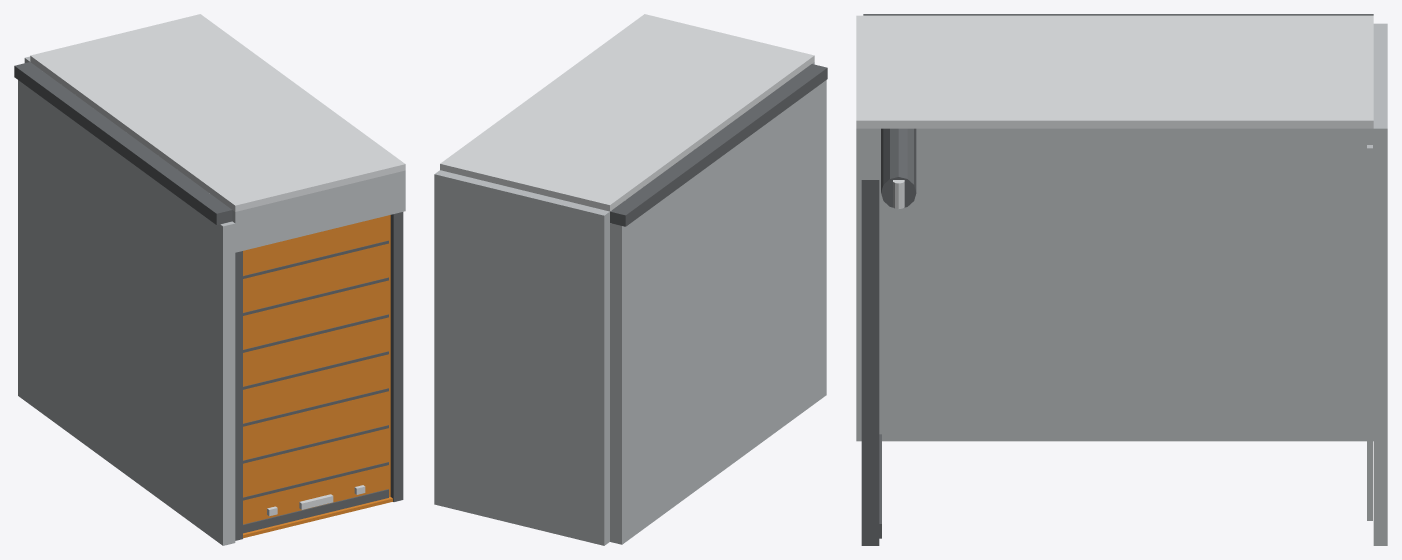
The model's file is self-storage-facility-and-loading-bay-self-storage-fac-7106fadc__34696.glb.
The picture shows the model from 3 angles, left to right: view 1: azimuth 30°, elevation 25°; view 2: azimuth 150°, elevation 25°; view 3: azimuth 270°, elevation 25°; orthographic projection. The views are drawn at different scales.
Visible parts, largest first — view 1: self-storage-facility-and-loading-bay-storage-unit-module-sm (×4), shutter/orange, shutter/charcoal, shutter/steel; view 2: self-storage-facility-and-loading-bay-storage-unit-module-sm (×3); view 3: self-storage-facility-and-loading-bay-storage-unit-module-sm (×3).
Part boxes in pixels (<box>): self-storage-facility-and-loading-bay-storage-unit-module-sm (×4): <box>14,14,405,545</box>; shutter/orange: <box>243,215,390,524</box>; shutter/charcoal: <box>243,240,388,533</box>; shutter/steel: <box>267,485,365,516</box>; self-storage-facility-and-loading-bay-storage-unit-module-sm (×3): <box>434,14,827,545</box>; self-storage-facility-and-loading-bay-storage-unit-module-sm (×3): <box>856,14,1387,545</box>.
Bounding box in the file's own units: 1.53 × 2.65 × 3.
